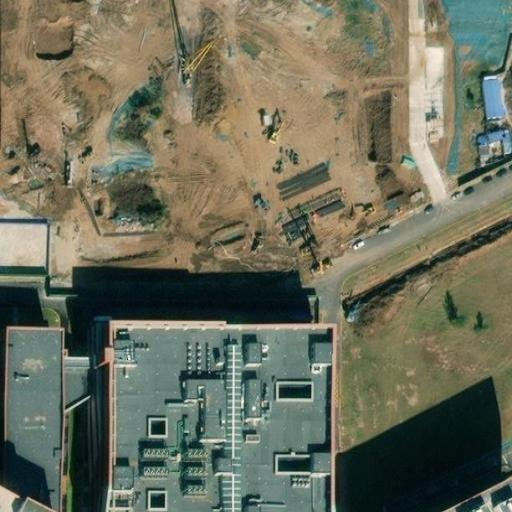building: (98, 323, 323, 512), (1, 326, 99, 512), (473, 125, 512, 161), (482, 76, 504, 121)
